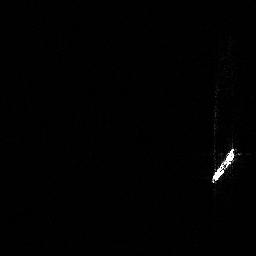ship: (208, 143, 240, 187)
